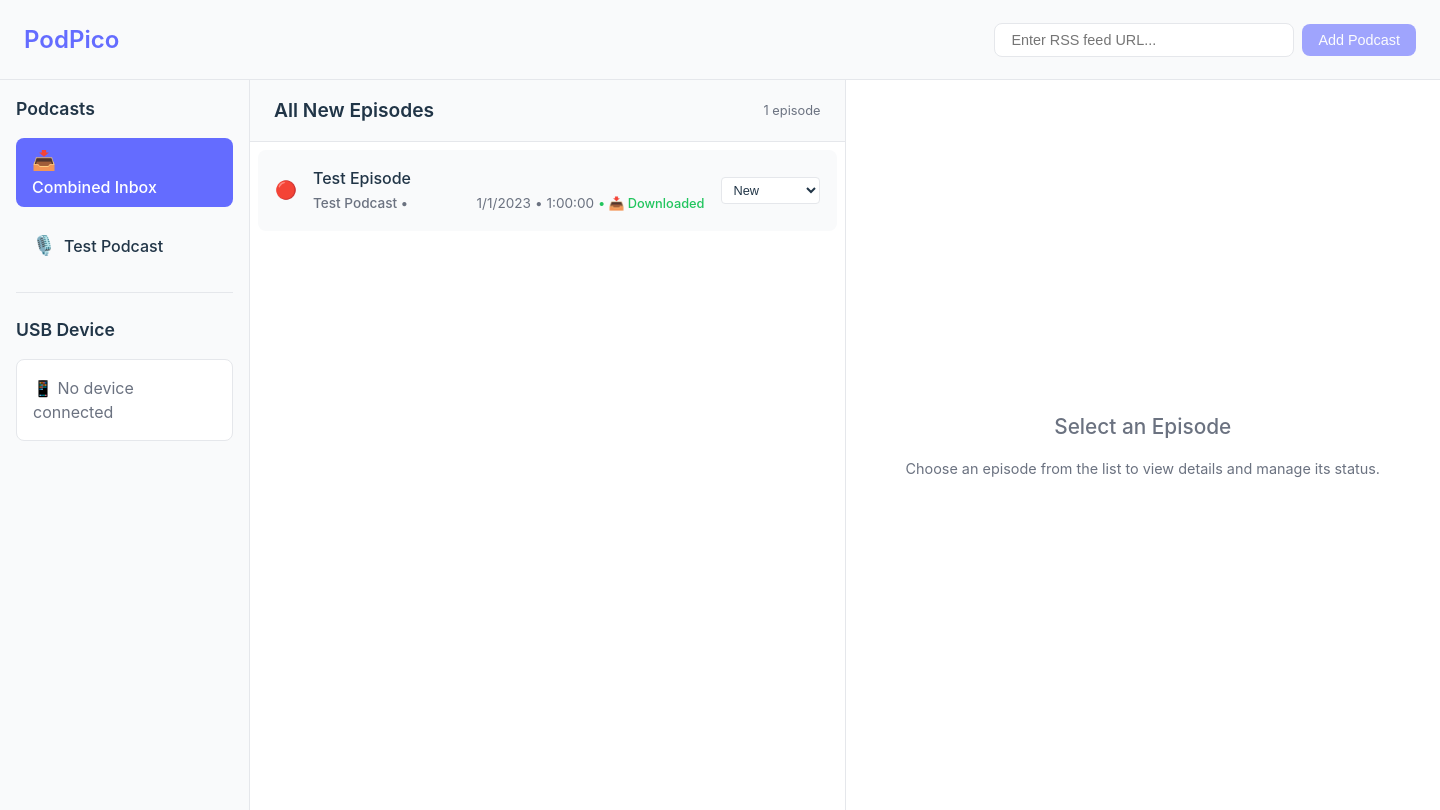
Remove Downloaded Episode - End-to-End Integration Tests › Complete Remove Episode User Journey › should complete full episode removal workflow with backend integration
Check: the heading "PodPico" is shown, box 24,22 -> 119,58
Click the text "Test Podcast".
click(120, 246)  # box 64,234 -> 177,258
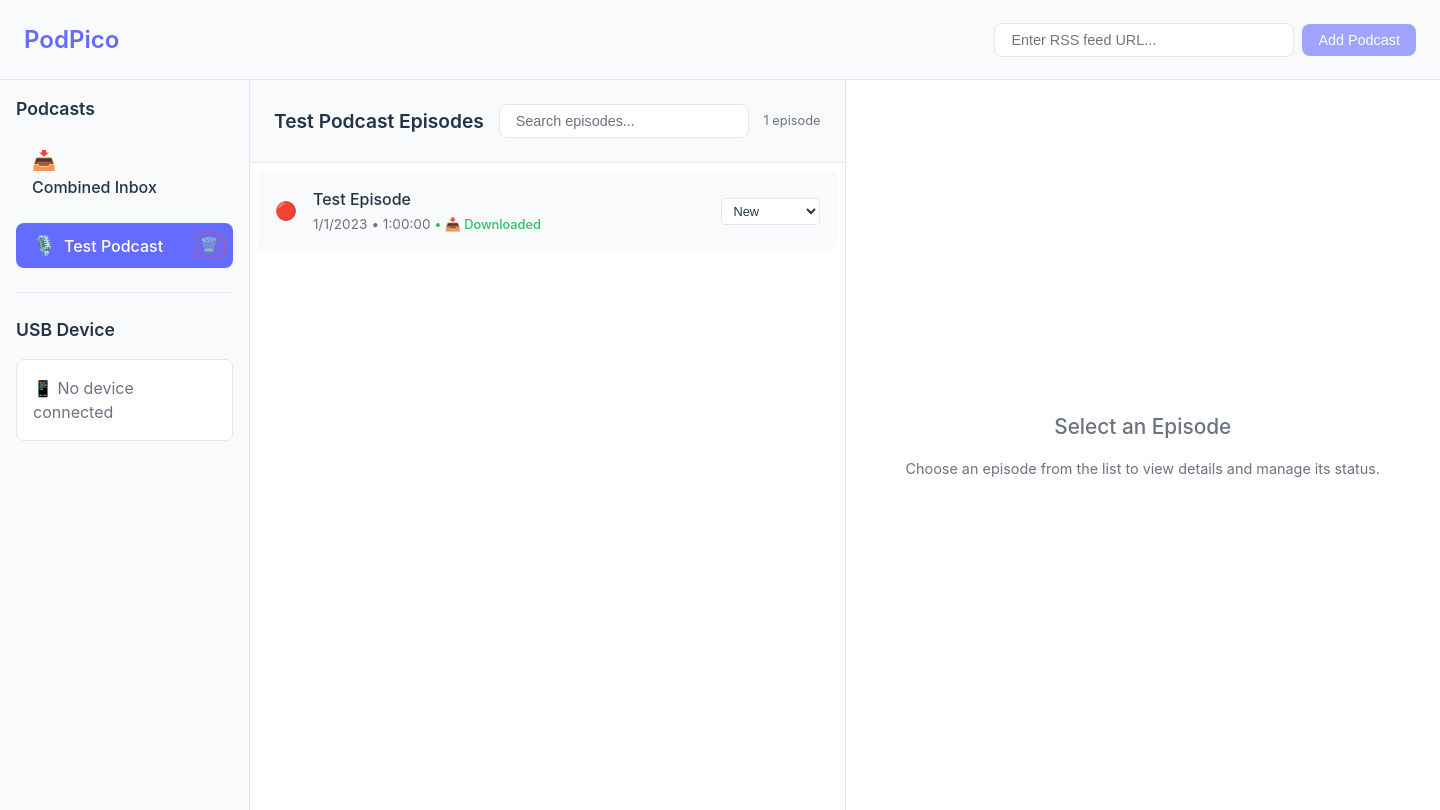
# Select downloaded episode
Click the heading "Test Episode".
click(362, 199)  # box 313,189 -> 411,209
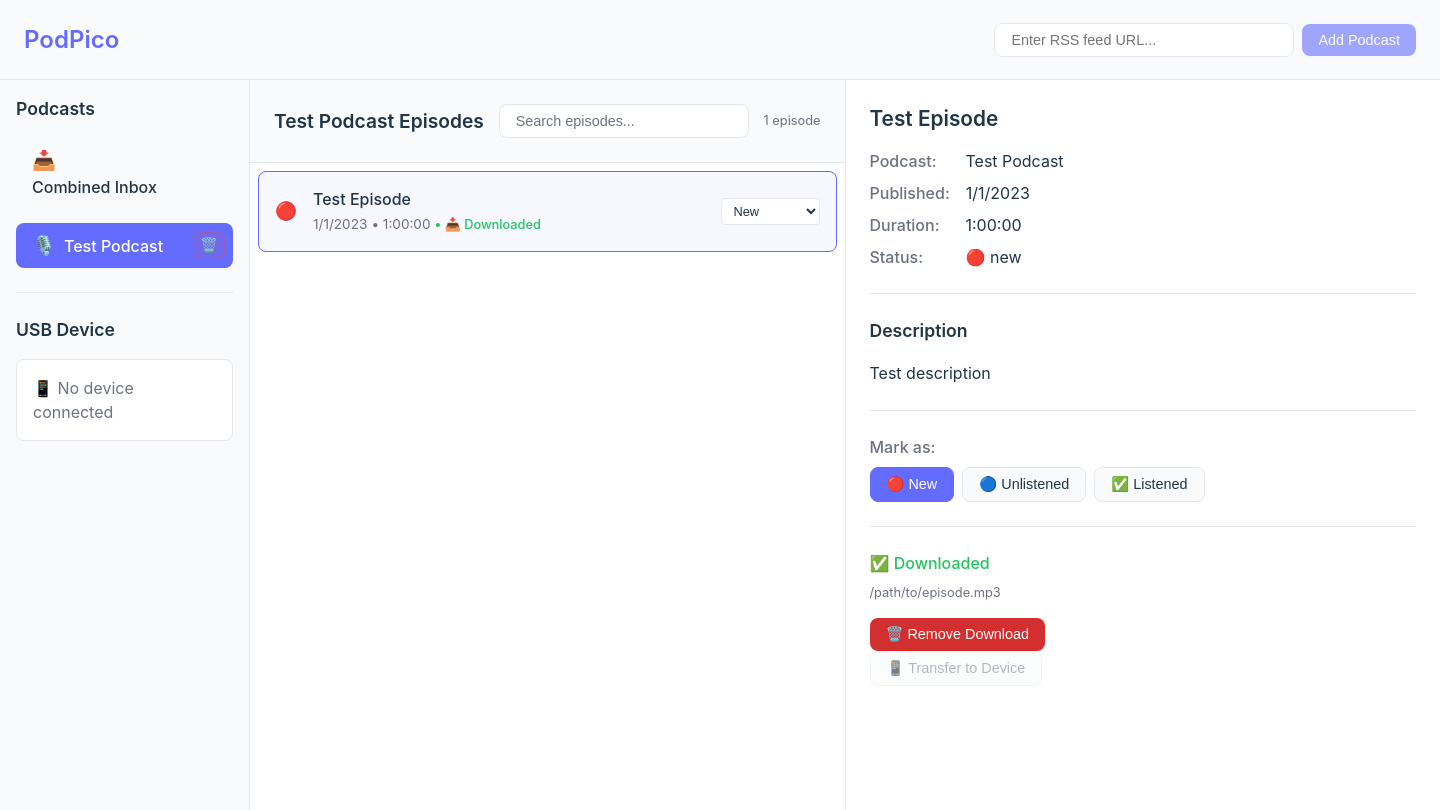
Check: the text "✅ Downloaded" is shown, box 870,553 -> 990,573
Check: the button "🗑️ Remove Download" is shown
# Initiate removal
Click the button "🗑️ Remove Download".
click(957, 635)  # box 870,618 -> 1045,651
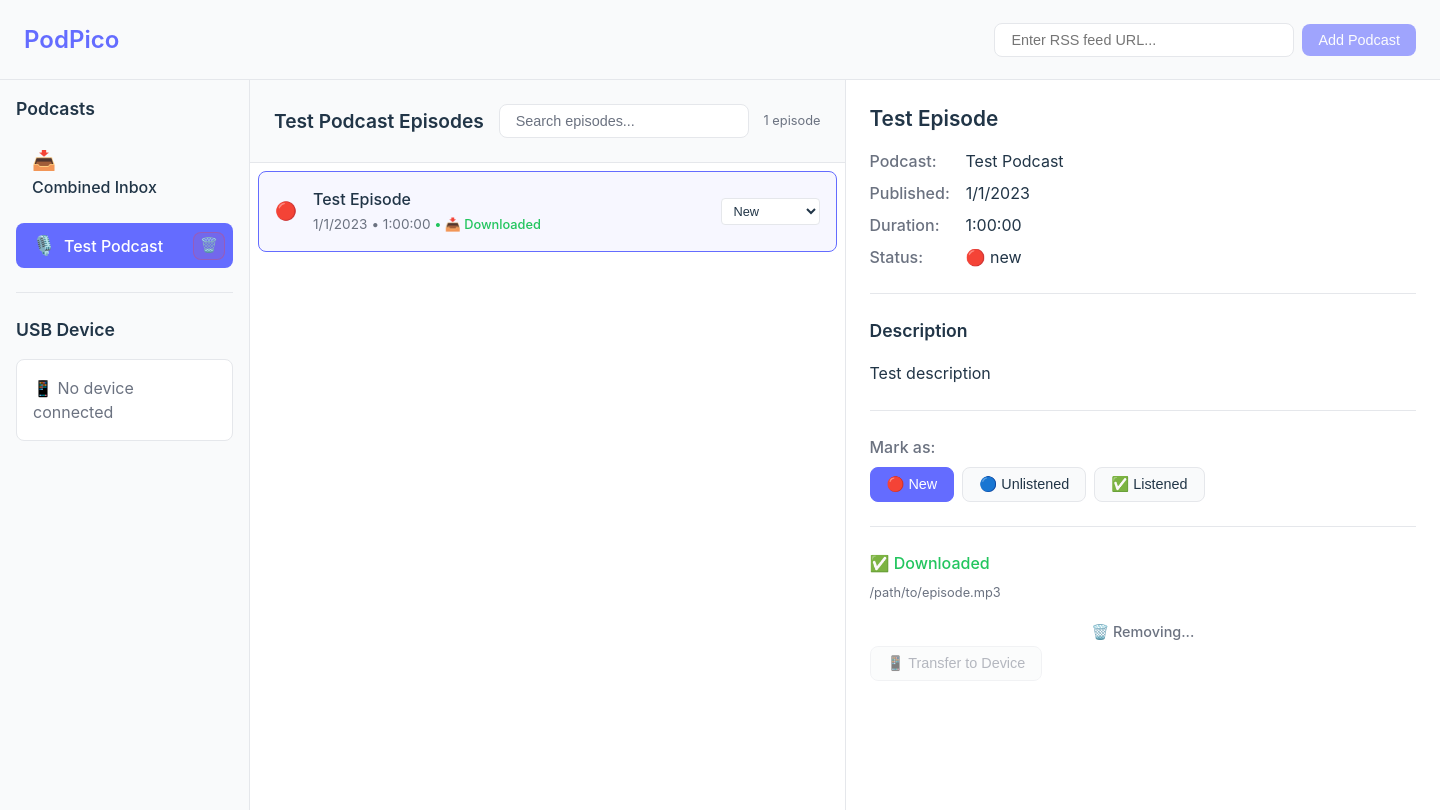
Check: the text "🗑️ Removing..." is shown, box 1091,624 -> 1194,640
